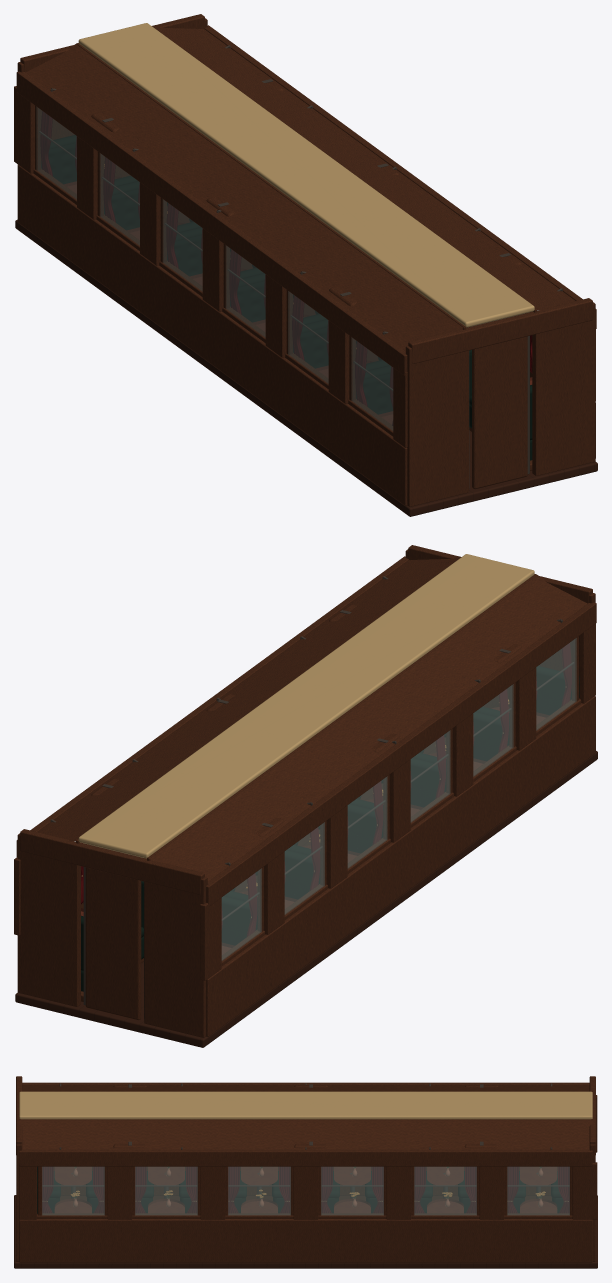
Rendered from 03_train_material.glb.
The picture shows the model from 3 angles, top to bottom: view 1: azimuth 30°, elevation 25°; view 2: azimuth 150°, elevation 25°; view 3: azimuth 270°, elevation 25°; orthographic projection. The views are drawn at different scales.
Parts seen in each view (by area): view 1: Central warm ivory ceiling, Sloped wood ceiling shoulder, Lower walnut wainscot, Sloped wood ceiling shoulder.001, Upper walnut header, End walnut side panel.001, End walnut side panel, End door leaf, Continuous floor shell, End wall header, Upper walnut header.001, Window sill wooden rail (+21 smaller); view 2: Central warm ivory ceiling, Sloped wood ceiling shoulder, Lower walnut wainscot, Sloped wood ceiling shoulder.001, Upper walnut header, End walnut side panel.003, End walnut side panel.002, End door leaf.001, Continuous floor shell, End wall header.001, Upper walnut header.001, Window sill wooden rail (+21 smaller); view 3: Lower walnut wainscot.001, Sloped wood ceiling shoulder.001, Central warm ivory ceiling, Upper walnut header.001, Continuous floor shell, Sloped wood ceiling shoulder, Window 1 3 real dark glazing, Window 1 4 real dark glazing, Window 1 1 real dark glazing, Window 1 2 real dark glazing, Window 1 5 real dark glazing, Window 1 6 real dark glazing (+39 smaller).
Boxes of the visible parts, x1=… form: Central warm ivory ceiling: x1=78, y1=23, x2=534, y2=327; Sloped wood ceiling shoulder: x1=25, y1=44, x2=464, y2=350; Lower walnut wainscot: x1=17, y1=165, x2=407, y2=505; Sloped wood ceiling shoulder.001: x1=152, y1=26, x2=575, y2=310; Upper walnut header: x1=16, y1=71, x2=407, y2=375; End walnut side panel.001: x1=532, y1=302, x2=595, y2=475; End walnut side panel: x1=405, y1=346, x2=468, y2=506; End door leaf: x1=472, y1=336, x2=527, y2=489; Continuous floor shell: x1=15, y1=207, x2=597, y2=516; End wall header: x1=408, y1=298, x2=592, y2=363; Upper walnut header.001: x1=204, y1=25, x2=596, y2=328; Window sill wooden rail: x1=33, y1=169, x2=393, y2=436; Central warm ivory ceiling: x1=78, y1=554, x2=534, y2=858; Sloped wood ceiling shoulder: x1=149, y1=575, x2=587, y2=881; Lower walnut wainscot: x1=206, y1=696, x2=595, y2=1036; Sloped wood ceiling shoulder.001: x1=37, y1=557, x2=461, y2=841; Upper walnut header: x1=206, y1=602, x2=596, y2=906; End walnut side panel.003: x1=17, y1=833, x2=80, y2=1006; End walnut side panel.002: x1=144, y1=877, x2=207, y2=1037; End door leaf.001: x1=85, y1=867, x2=141, y2=1020; Continuous floor shell: x1=15, y1=738, x2=597, y2=1047; End wall header.001: x1=20, y1=829, x2=204, y2=894; Upper walnut header.001: x1=16, y1=556, x2=408, y2=856; Window sill wooden rail: x1=221, y1=698, x2=581, y2=966; Lower walnut wainscot.001: x1=19, y1=1219, x2=592, y2=1262; Sloped wood ceiling shoulder.001: x1=19, y1=1120, x2=592, y2=1149; Central warm ivory ceiling: x1=19, y1=1091, x2=592, y2=1119; Upper walnut header.001: x1=19, y1=1149, x2=592, y2=1166; Continuous floor shell: x1=14, y1=1195, x2=597, y2=1268; Sloped wood ceiling shoulder: x1=22, y1=1085, x2=589, y2=1091; Window 1 3 real dark glazing: x1=228, y1=1166, x2=290, y2=1215; Window 1 4 real dark glazing: x1=321, y1=1166, x2=383, y2=1215; Window 1 1 real dark glazing: x1=42, y1=1166, x2=104, y2=1215; Window 1 2 real dark glazing: x1=135, y1=1166, x2=197, y2=1215; Window 1 5 real dark glazing: x1=414, y1=1166, x2=476, y2=1215; Window 1 6 real dark glazing: x1=507, y1=1166, x2=569, y2=1215.
Size of the model in its own units: 3.18 by 2.8 by 11.3.
16 materials, 7 textured.
